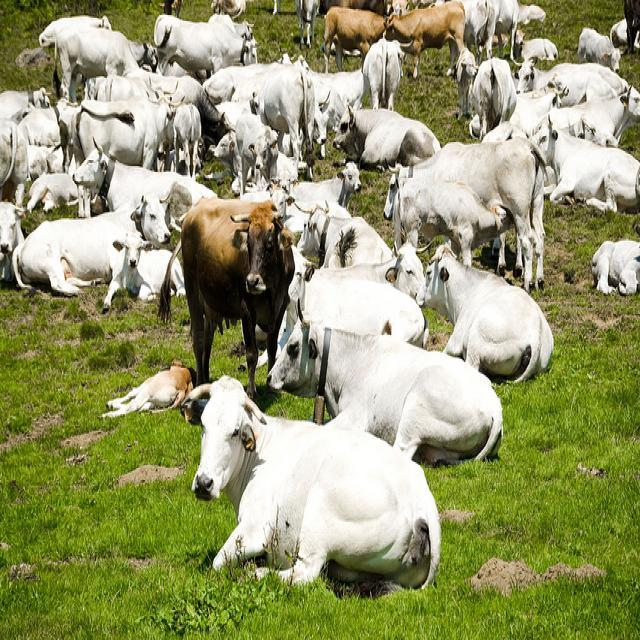cow: (0, 0, 638, 422), (183, 369, 441, 598), (265, 298, 502, 464), (154, 187, 293, 396), (415, 237, 553, 385), (10, 189, 171, 295), (70, 135, 217, 230), (300, 238, 431, 341), (391, 177, 515, 263), (535, 114, 639, 212), (52, 19, 152, 99), (151, 11, 259, 74), (331, 106, 440, 163), (234, 108, 277, 191), (589, 238, 639, 293)
